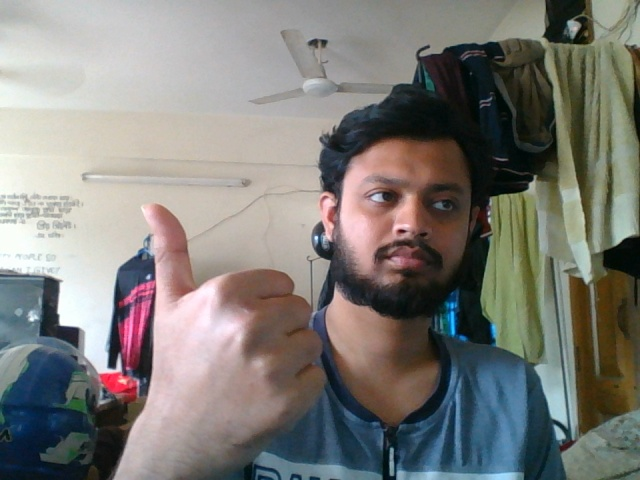do: (101, 195, 330, 480)
